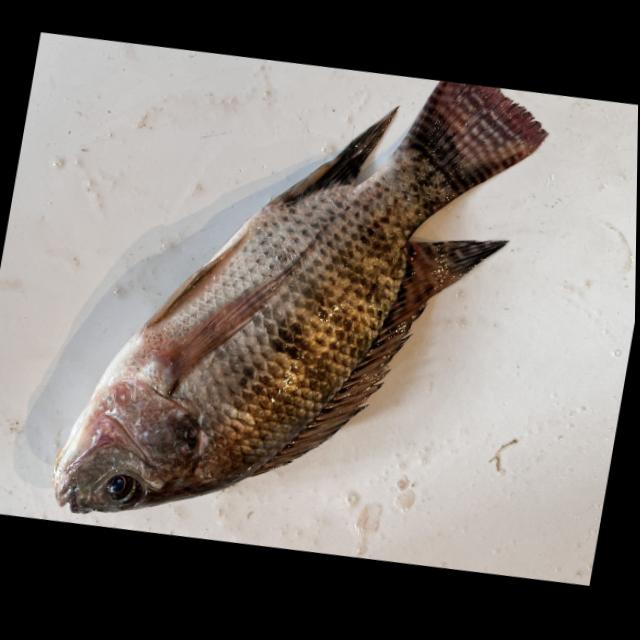Tilapia: (46, 26, 557, 578)
